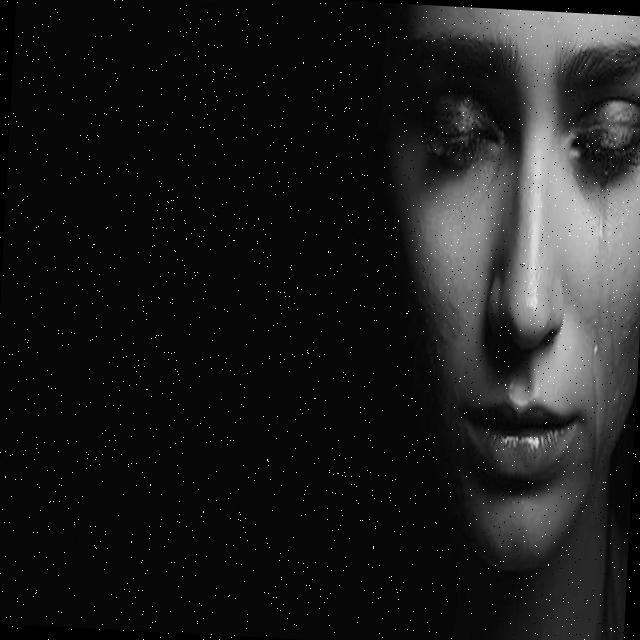Sadness: (373, 4, 640, 577)
